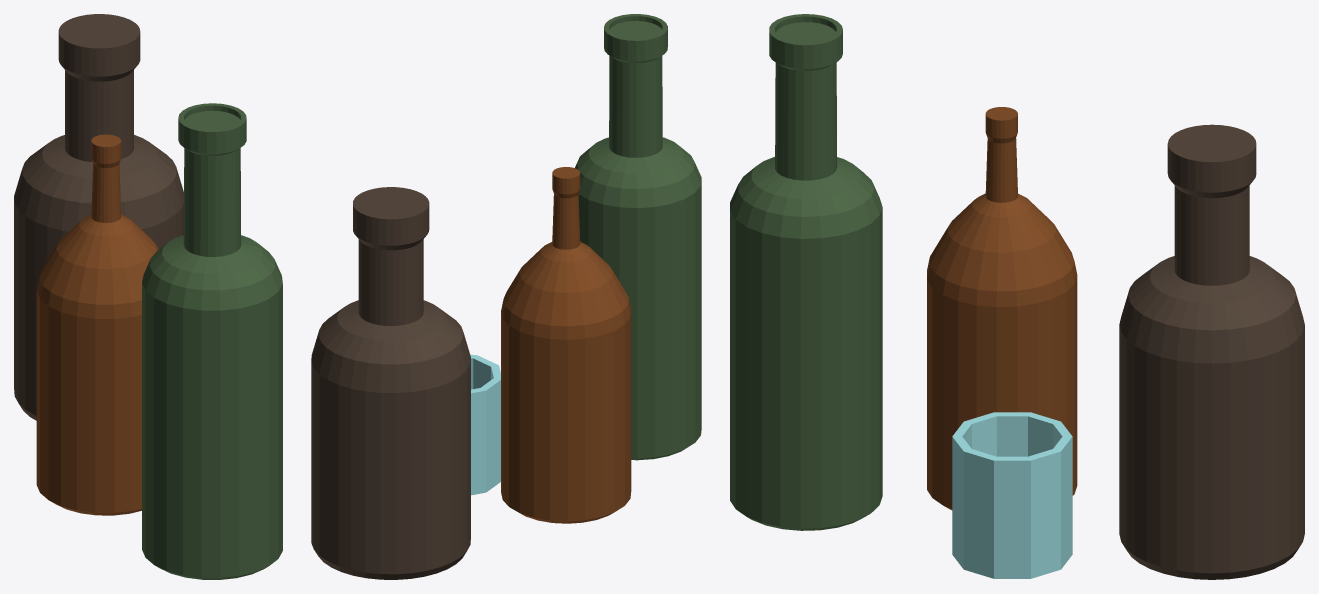
Rendered from BarBottles.fbx.
3 views of the same model, side by side, from view 1: azimuth 30°, elevation 25°; view 2: azimuth 150°, elevation 25°; view 3: azimuth 270°, elevation 25° (orthographic). The views are drawn at different scales.
Visible parts, largest first — view 1: BarBottles; view 2: BarBottles; view 3: BarBottles.
Part boxes in pixels (<box>): BarBottles: <box>14,14,282,579</box>; BarBottles: <box>311,14,701,579</box>; BarBottles: <box>730,14,1304,579</box>.
Size of the model in its own units: 10.44 by 19.44 by 21.36.
